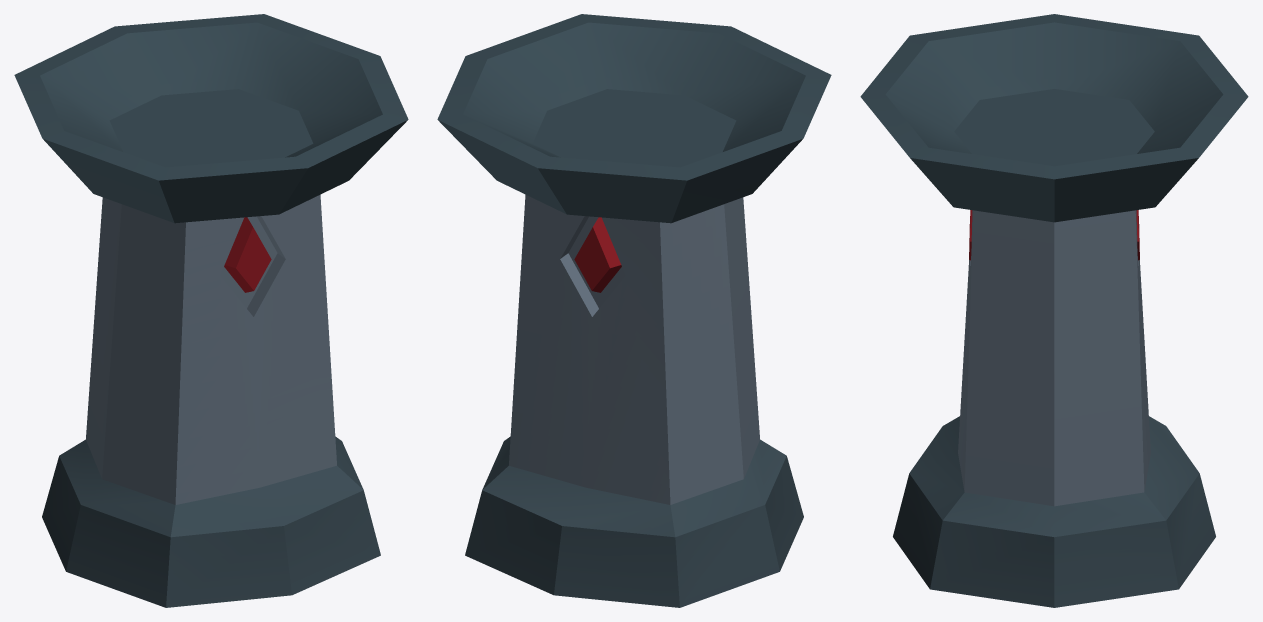
Rendered from Altar_round_A.fbx.
3 views of the same model, side by side, from view 1: azimuth 30°, elevation 25°; view 2: azimuth 150°, elevation 25°; view 3: azimuth 270°, elevation 25° (orthographic).
Parts seen in each view (by area): view 1: Altar_round_A; view 2: Altar_round_A; view 3: Altar_round_A.
Boxes of the visible parts, <box> form: Altar_round_A: <box>14,14,408,607</box>; Altar_round_A: <box>437,14,831,607</box>; Altar_round_A: <box>860,14,1248,607</box>.
Size of the model in its own units: 79.52 by 99.18 by 78.88.
